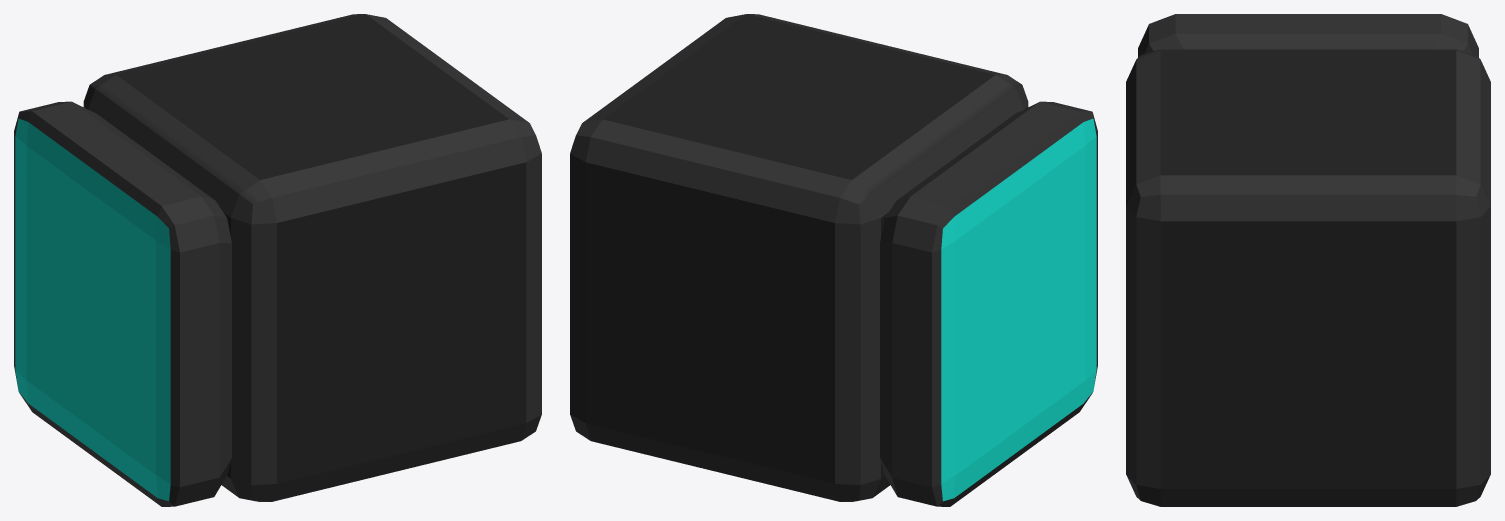
The model's file is piston.fbx.
3 renders of one model, left to right at view 1: azimuth 30°, elevation 25°; view 2: azimuth 150°, elevation 25°; view 3: azimuth 270°, elevation 25°, orthographic. The views are drawn at different scales.
Parts seen in each view (by area): view 1: pistonBody, pistonArm; view 2: pistonBody, pistonArm; view 3: pistonBody, pistonArm.
Part boxes in pixels (box(x1,y1,x2,y2)): pistonBody: box(83, 14, 541, 501); pistonArm: box(14, 101, 231, 506); pistonBody: box(570, 14, 1028, 501); pistonArm: box(880, 101, 1097, 506); pistonBody: box(1126, 49, 1490, 506); pistonArm: box(1138, 14, 1478, 57).
Bounding box in the file's own units: 126 × 103 × 103.
